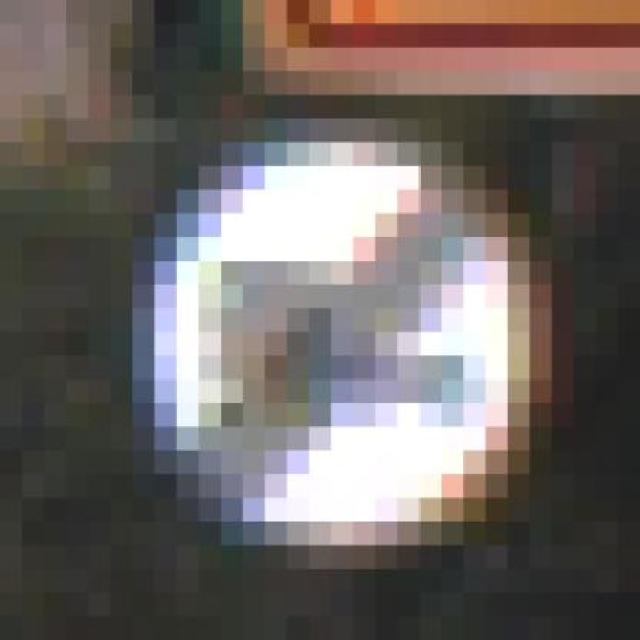Overtaking by trucks is prohibited: (66, 119, 596, 616)
